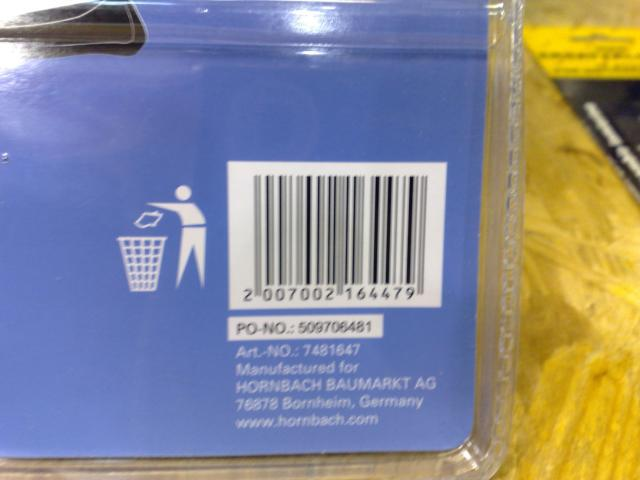Barkod: (250, 172, 428, 286)
